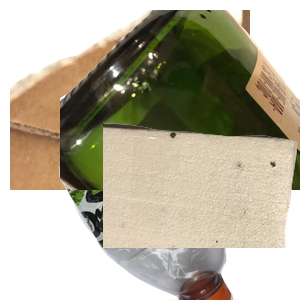cardboard: (10, 10, 250, 190)
glass: (60, 10, 300, 190)
plastic: (57, 120, 293, 300)
trash: (103, 120, 300, 300)
